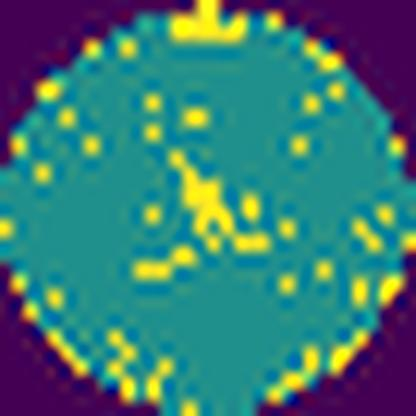Center: (130, 142, 276, 289)
